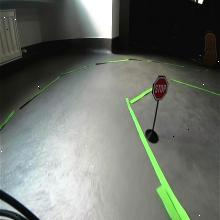stop: (152, 75, 168, 101)
